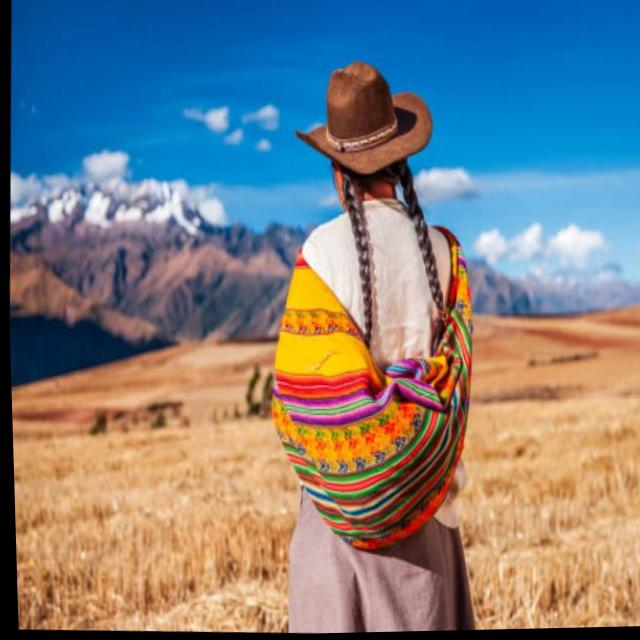no helmet: (289, 54, 447, 218)
